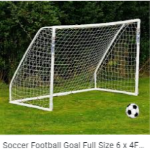goals: (9, 18, 142, 110)
